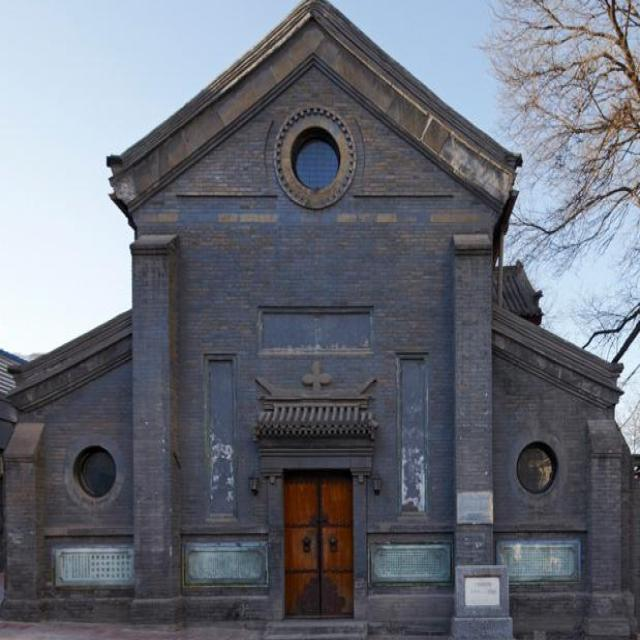door: (285, 470, 354, 622)
plant: (471, 0, 639, 271)
wall: (0, 0, 636, 636)
windows: (292, 132, 338, 186), (516, 442, 554, 488), (77, 448, 113, 495)
